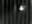person: (20, 5, 25, 14)
